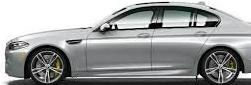Cars: (6, 3, 251, 84)
